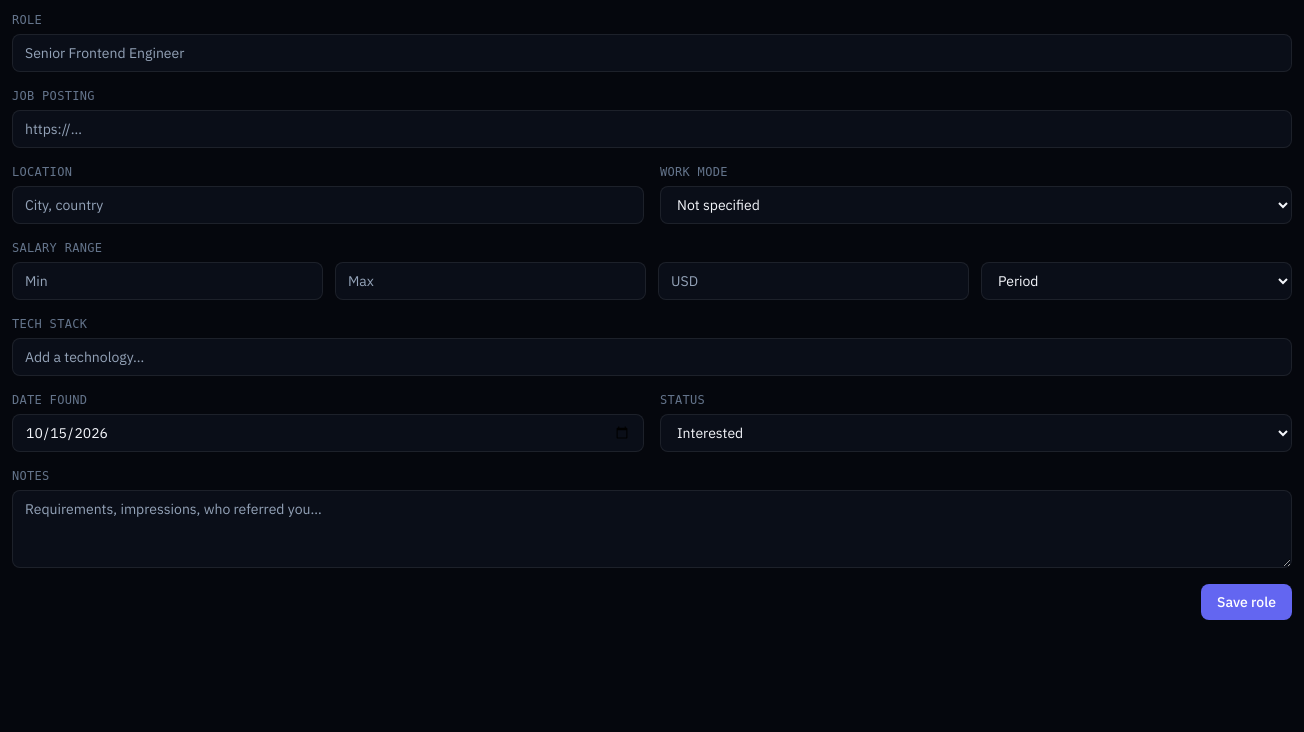
Test: ApplicationForm › blocks a max salary below the min
Type "r" into the field labelled "Role" at [652, 53], box [12,34,1292,72]
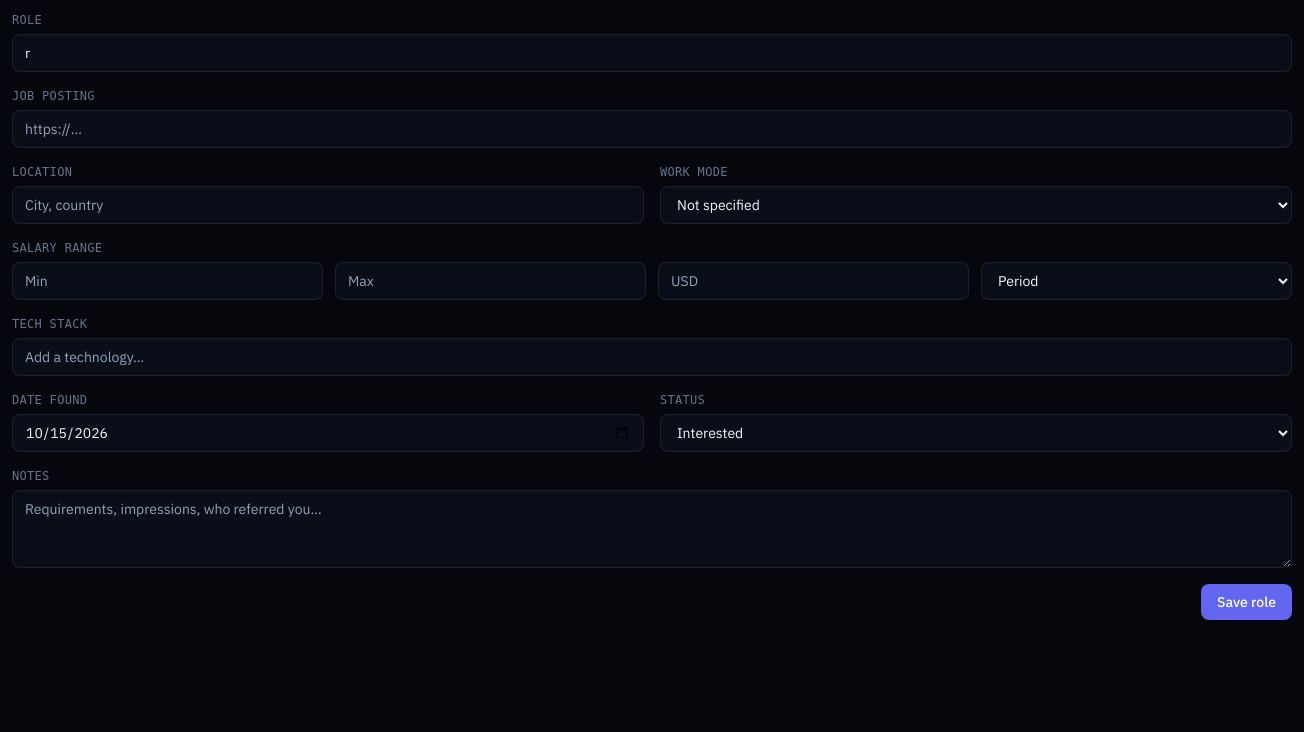
Type "100" into the number field named "Minimum salary" at [168, 281], box [12,262,323,300]
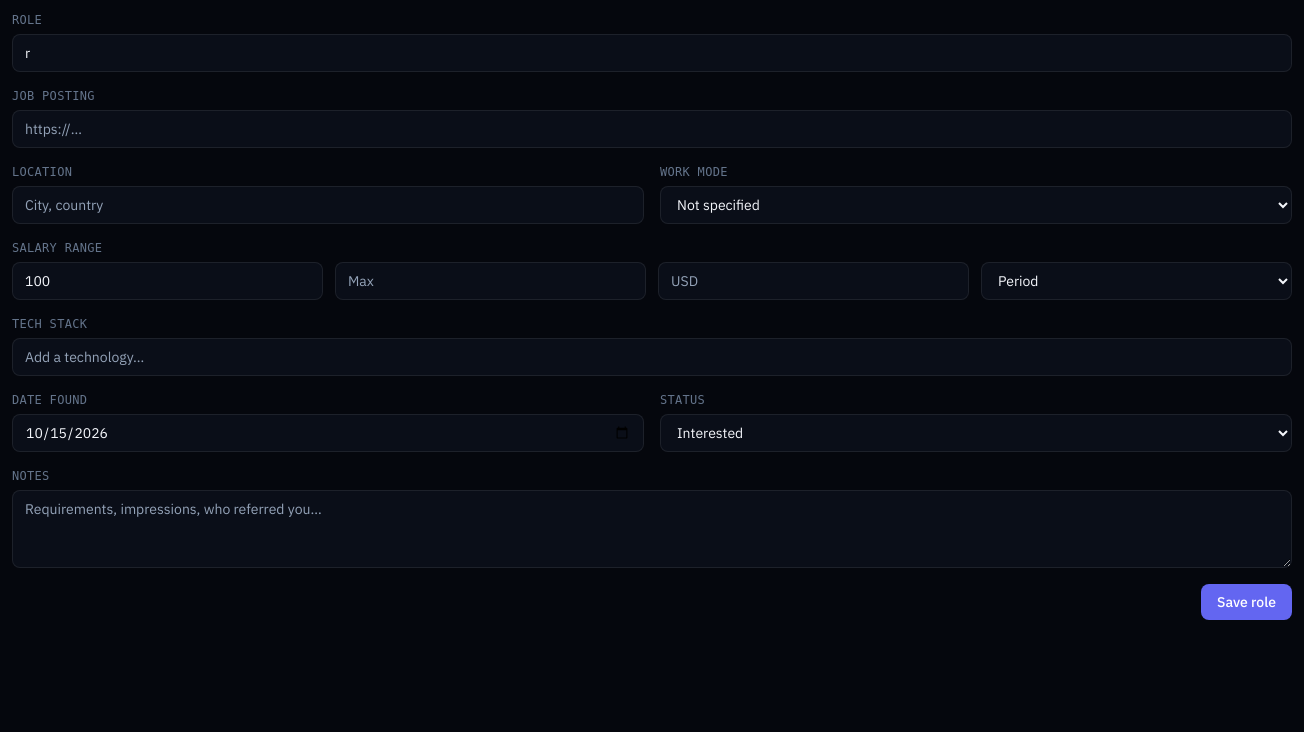
Type "50" into the number field named "Maximum salary" at [490, 281], box [335,262,646,300]
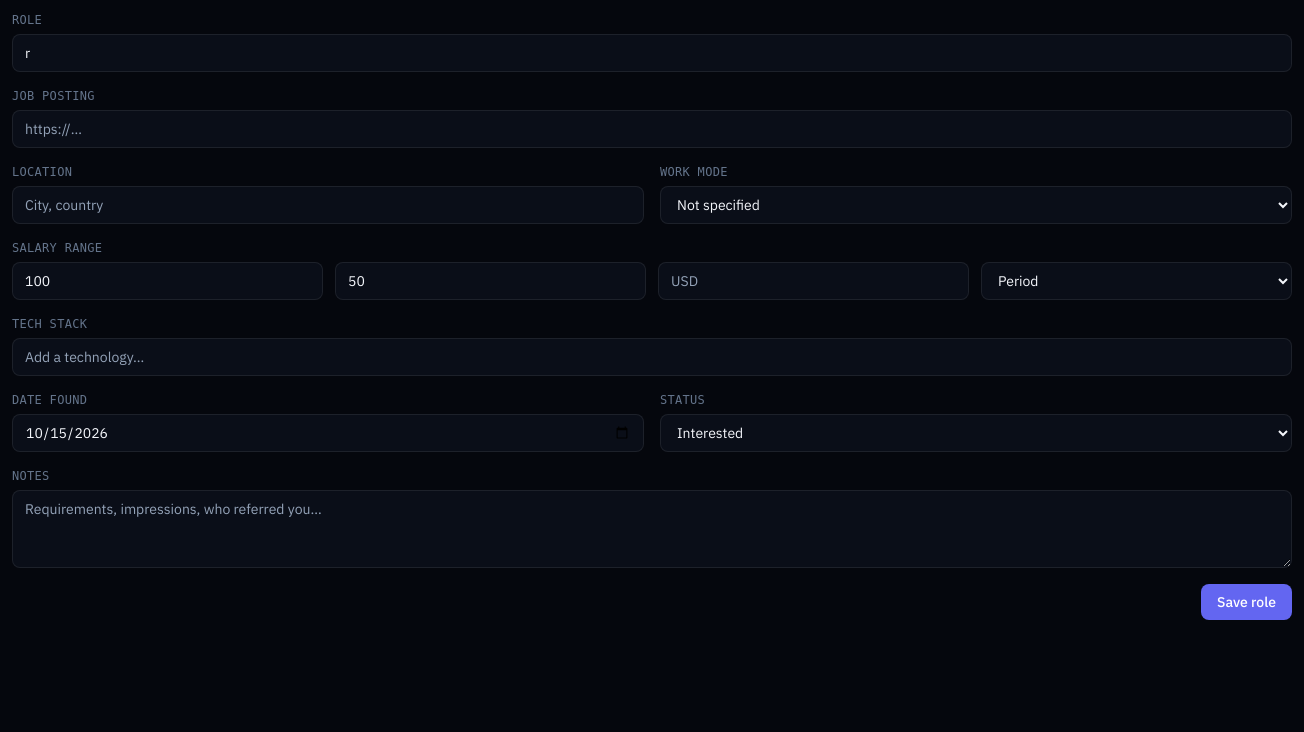
Click the button "Save role" at [1246, 602], box [1201,584,1292,620]
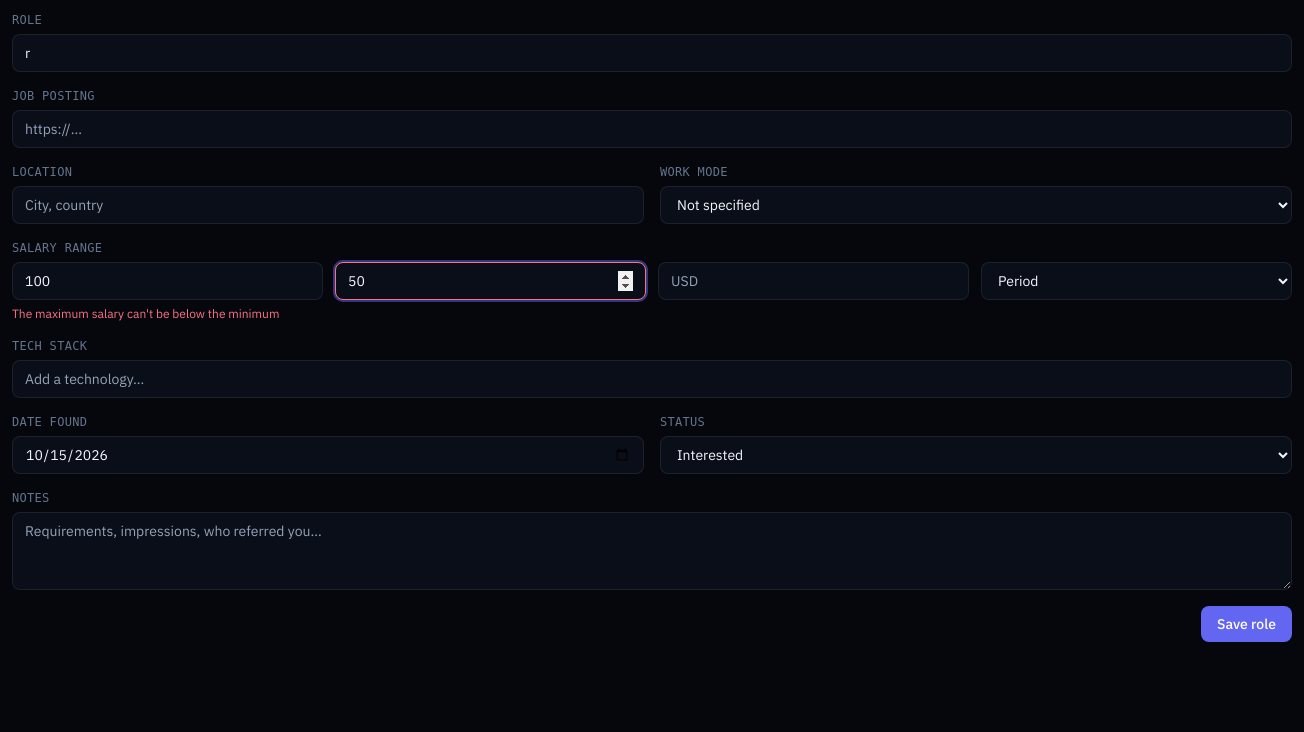
Expected: the text "The maximum salary can't be below the minimum" is shown, [12,306,279,321]
